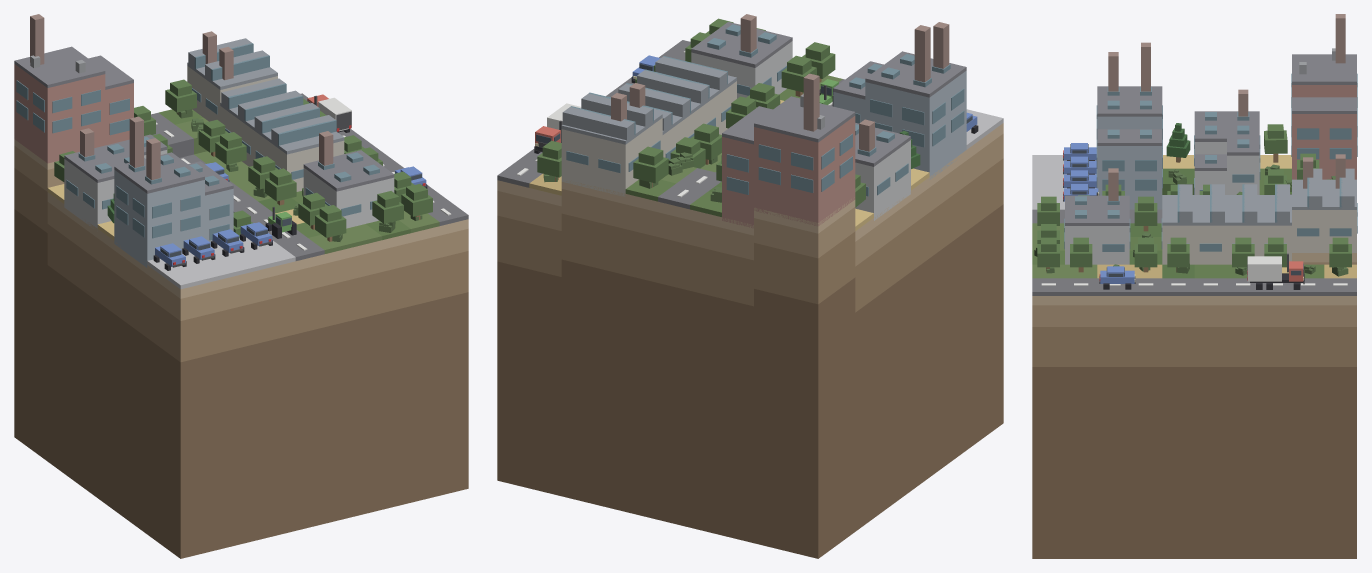
Rendered from block_9_engineered_20.glb.
The picture shows the model from 3 angles, left to right: view 1: azimuth 30°, elevation 25°; view 2: azimuth 150°, elevation 25°; view 3: azimuth 270°, elevation 25°; orthographic projection. The views are drawn at different scales.
Visible parts, largest first — view 1: Patch_LowerLeft_b09_ES, Factories_LowerLeft_b09_ES, Ground_LowerLeft_b09_ES, Roads_LowerLeft_b09_ES, Parking_LowerLeft_b09_ES, Asset_Truck.001_ES, Asset_Tree_Round.013_ES, Asset_Tree_Round.021_ES, Asset_Tree_Round.001_ES, Asset_Tree_Round.022_ES, Asset_Tree_Round.007_ES, Asset_Tree_Round.023_ES (+8 smaller); view 2: Patch_LowerLeft_b09_ES, Factories_LowerLeft_b09_ES, Ground_LowerLeft_b09_ES, Roads_LowerLeft_b09_ES, Asset_Tree_Round.001_ES, Asset_Tree_Round.017_ES, Asset_Truck.001_ES, Asset_Tree_Round.021_ES, Asset_Tree_Round.002_ES, Asset_Tree_Round.007_ES, Parking_LowerLeft_b09_ES, Asset_Tree_Round.005_ES; view 3: Patch_LowerLeft_b09_ES, Factories_LowerLeft_b09_ES, Ground_LowerLeft_b09_ES, Roads_LowerLeft_b09_ES, Asset_Truck.001_ES, Parking_LowerLeft_b09_ES, Asset_Tree_Round.020_ES, Asset_Tree_Round.014_ES, Asset_Tree_Round.013_ES, Asset_Tree_Round.018_ES, Asset_Tree_Round.012_ES, Asset_Tree_Round.023_ES (+11 smaller).
Boxes of the visible parts, box(x1,y1,x2,y2) form: Patch_LowerLeft_b09_ES: box(14, 139, 468, 558); Factories_LowerLeft_b09_ES: box(14, 14, 394, 267); Ground_LowerLeft_b09_ES: box(47, 109, 439, 253); Roads_LowerLeft_b09_ES: box(151, 93, 468, 260); Parking_LowerLeft_b09_ES: box(147, 237, 295, 289); Asset_Truck.001_ES: box(307, 94, 351, 132); Asset_Tree_Round.013_ES: box(265, 168, 296, 205); Asset_Tree_Round.021_ES: box(315, 205, 346, 241); Asset_Tree_Round.001_ES: box(165, 79, 196, 114); Asset_Tree_Round.022_ES: box(372, 191, 403, 223); Asset_Tree_Round.007_ES: box(215, 132, 246, 164); Asset_Tree_Round.023_ES: box(401, 184, 432, 219); Patch_LowerLeft_b09_ES: box(497, 123, 1003, 558); Factories_LowerLeft_b09_ES: box(561, 14, 966, 228); Ground_LowerLeft_b09_ES: box(529, 75, 929, 230); Roads_LowerLeft_b09_ES: box(497, 40, 844, 209); Asset_Tree_Round.001_ES: box(633, 146, 668, 187); Asset_Tree_Round.017_ES: box(781, 55, 816, 96); Asset_Truck.001_ES: box(534, 103, 581, 153); Asset_Tree_Round.021_ES: box(802, 42, 835, 82); Asset_Tree_Round.002_ES: box(537, 140, 561, 181); Asset_Tree_Round.007_ES: box(691, 123, 721, 164); Parking_LowerLeft_b09_ES: box(966, 109, 1003, 149); Asset_Tree_Round.005_ES: box(670, 137, 705, 168); Patch_LowerLeft_b09_ES: box(1032, 253, 1356, 558); Factories_LowerLeft_b09_ES: box(1064, 14, 1357, 264); Ground_LowerLeft_b09_ES: box(1032, 155, 1356, 278); Roads_LowerLeft_b09_ES: box(1032, 194, 1356, 295); Asset_Truck.001_ES: box(1247, 253, 1304, 289); Parking_LowerLeft_b09_ES: box(1032, 155, 1096, 209); Asset_Tree_Round.020_ES: box(1264, 124, 1287, 162); Asset_Tree_Round.014_ES: box(1134, 237, 1157, 272); Asset_Tree_Round.013_ES: box(1134, 196, 1157, 231); Asset_Tree_Round.018_ES: box(1070, 237, 1092, 272); Asset_Tree_Round.012_ES: box(1167, 237, 1189, 271); Asset_Tree_Round.023_ES: box(1037, 237, 1059, 271).
Bounding box in the file's own units: 9.52 × 13.33 × 9.52.
